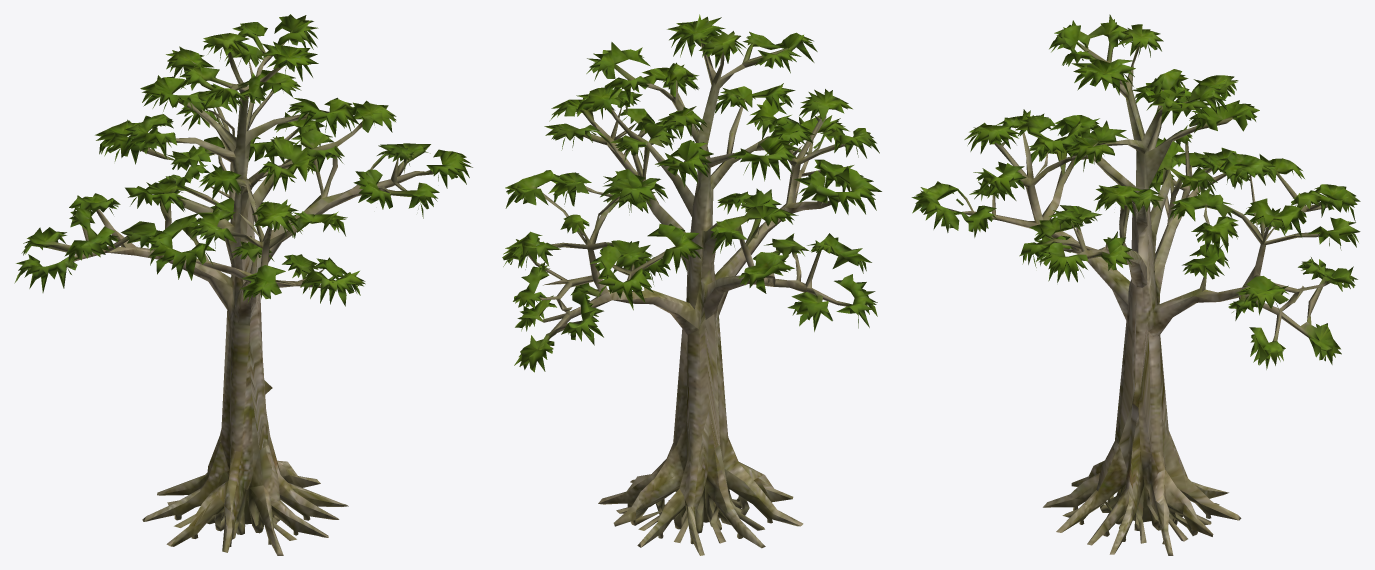
Rendered from VEG_CeibaJoven_01_LOD1.fbx.
3 views of the same model, side by side, from view 1: azimuth 30°, elevation 25°; view 2: azimuth 150°, elevation 25°; view 3: azimuth 270°, elevation 25° (orthographic). The views are drawn at different scales.
Parts seen in each view (by area): view 1: VEG_CeibaJoven_01_Mesh000; view 2: VEG_CeibaJoven_01_Mesh000; view 3: VEG_CeibaJoven_01_Mesh000.
Boxes of the visible parts, box(x1,y1,x2,y2) form: VEG_CeibaJoven_01_Mesh000: box(14, 14, 472, 555); VEG_CeibaJoven_01_Mesh000: box(502, 14, 881, 555); VEG_CeibaJoven_01_Mesh000: box(911, 14, 1360, 555).
Bounding box in the file's own units: 7.45 × 9 × 7.73.
